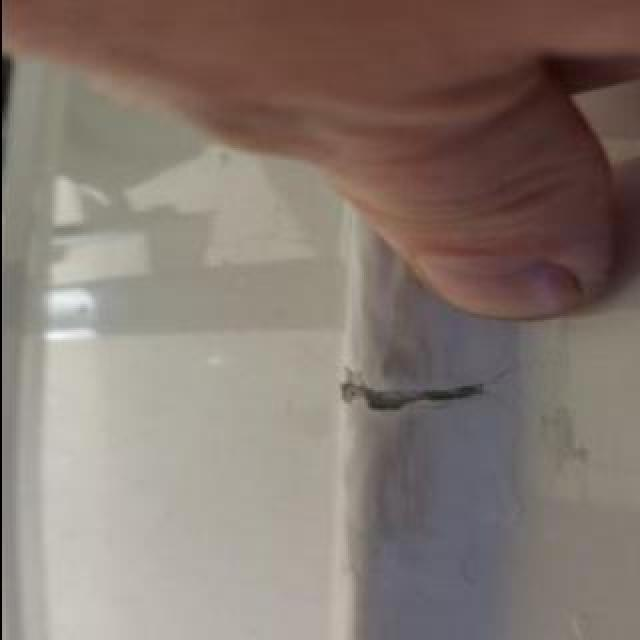crack: (335, 368, 513, 416)
